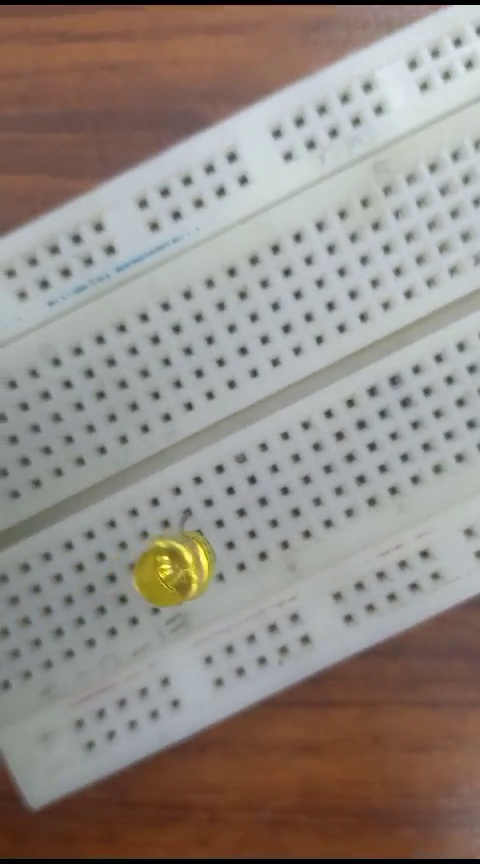LED: (128, 533, 218, 620)
